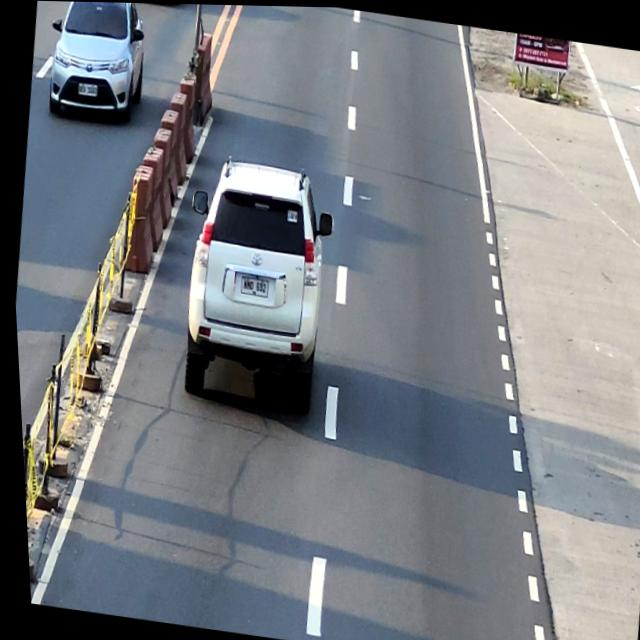Car: (164, 151, 346, 414), (41, 1, 154, 124)
License-Plate: (235, 275, 267, 297), (75, 81, 98, 97)
